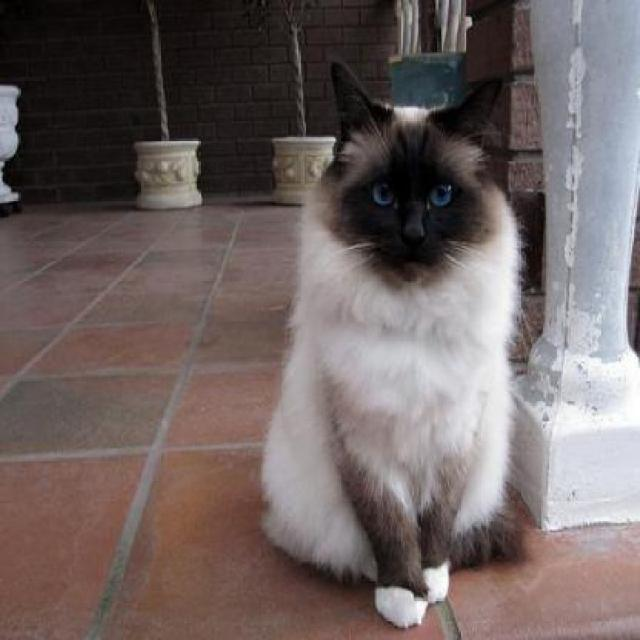cat: (265, 58, 517, 633)
